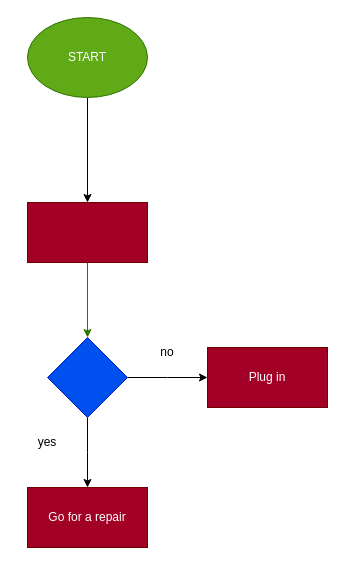
Image size: 345x565. Some labels were removed from this diagram. Each missing label, with the centre of its shape:
Is it pluged: [87,377]
Lamp is not working: [87,232]
